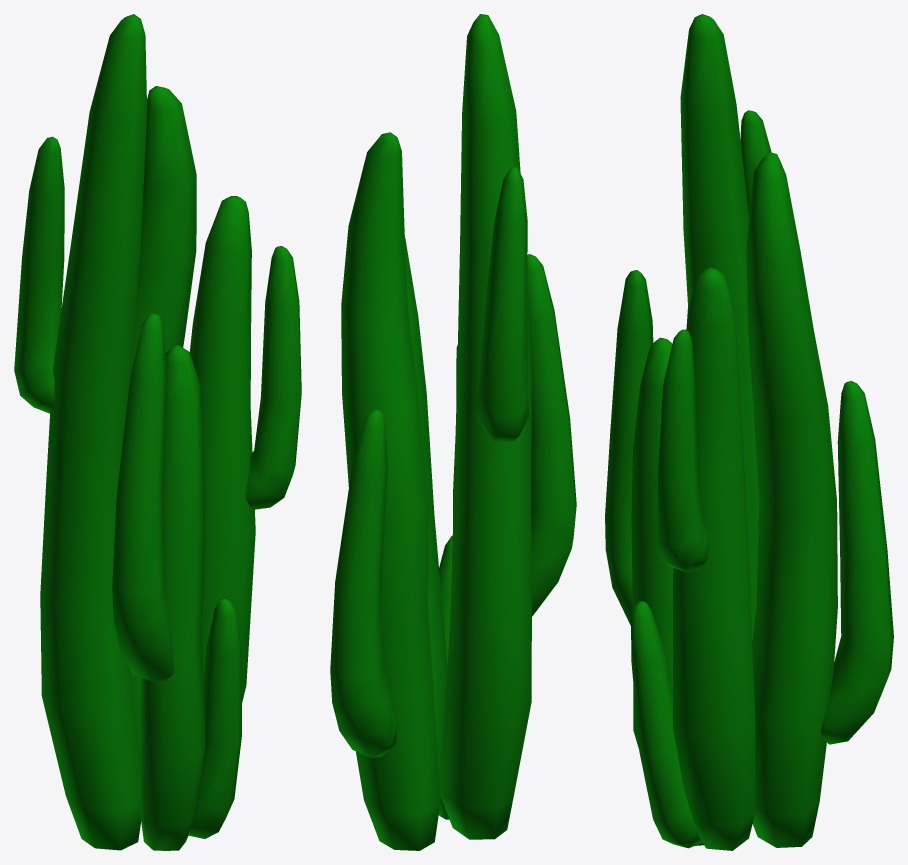
File: Cactus_Tall_04.fbx
The picture shows the model from 3 angles, left to right: view 1: azimuth 30°, elevation 25°; view 2: azimuth 150°, elevation 25°; view 3: azimuth 270°, elevation 25°; orthographic projection. The views are drawn at different scales.
Parts seen in each view (by area): view 1: Cactus_Tall_04; view 2: Cactus_Tall_04; view 3: Cactus_Tall_04.
Boxes of the visible parts, bbox=[...] form: Cactus_Tall_04: bbox=[14, 14, 301, 850]; Cactus_Tall_04: bbox=[330, 14, 576, 850]; Cactus_Tall_04: bbox=[605, 14, 893, 850].
Size of the model in its own units: 1.12 by 3.86 by 1.24.
